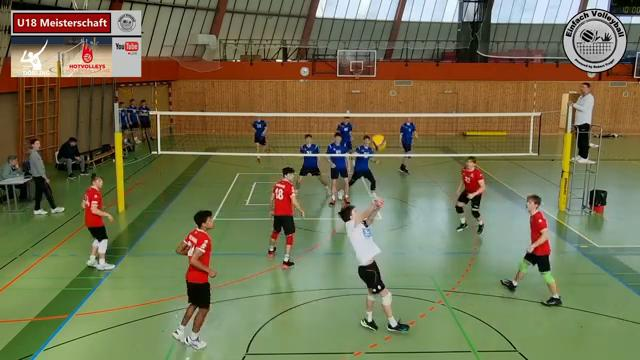Player: (501, 194, 561, 305), (172, 210, 215, 349), (268, 167, 304, 268), (82, 174, 114, 269), (455, 156, 485, 233), (349, 135, 375, 198), (327, 132, 349, 205), (296, 156, 328, 190), (399, 119, 417, 174), (252, 118, 267, 162), (336, 117, 353, 151)
Receive: (337, 197, 417, 342)
ball: (370, 135, 386, 152)
